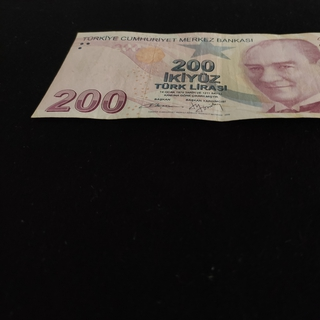200TLFront: (31, 30, 320, 124)
